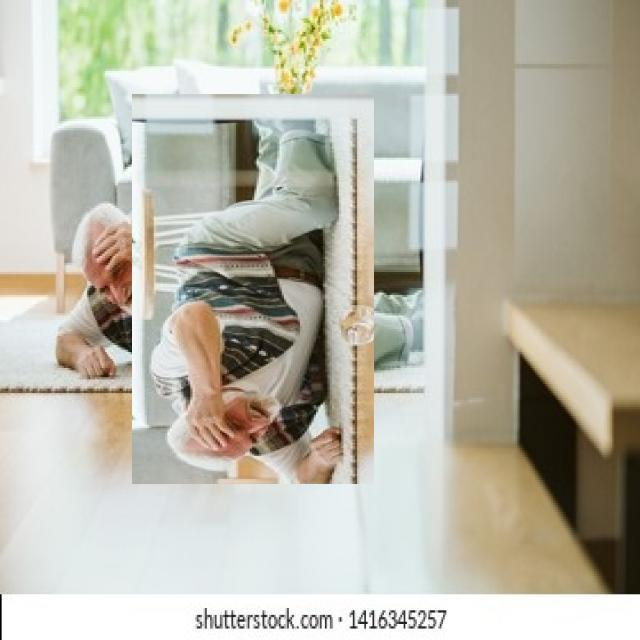Fall: (129, 122, 373, 486)
